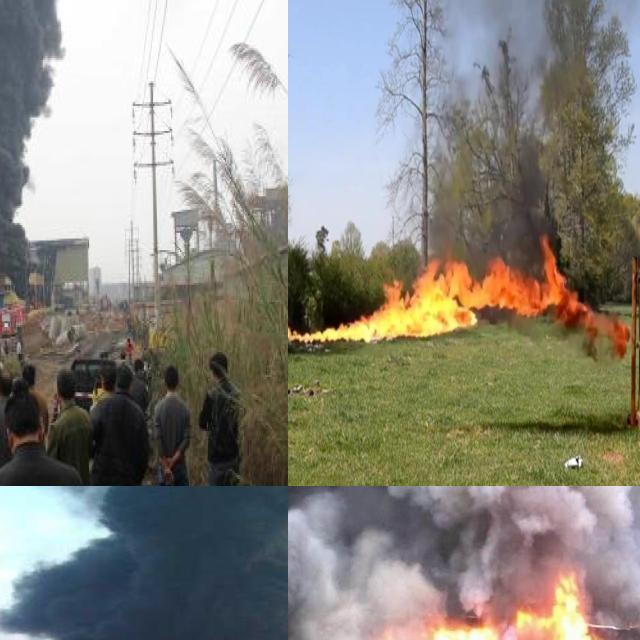fire: (288, 235, 600, 361), (511, 570, 595, 640), (421, 614, 496, 640)
smoke: (288, 486, 640, 640), (0, 486, 288, 640), (0, 0, 71, 259), (506, 125, 549, 258)
